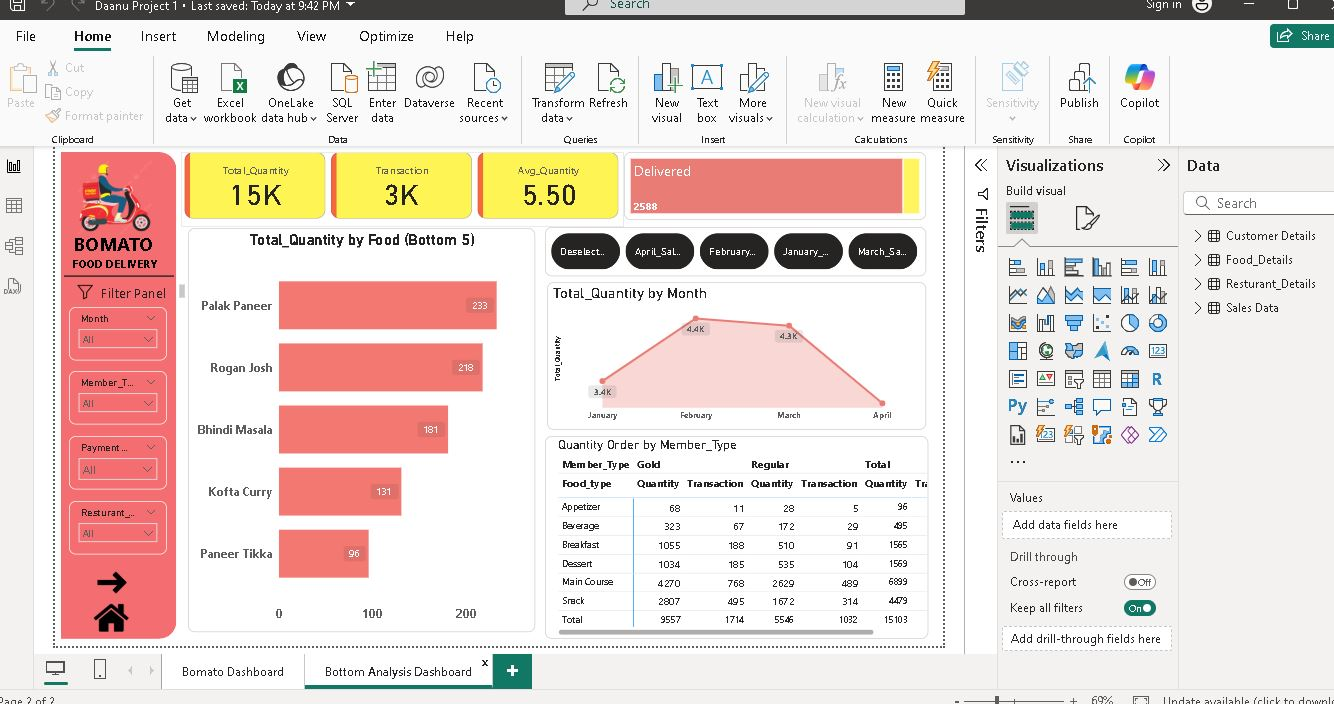

Layout of this report page (visuals, bound fields, positions):
{"tool":"powerbi","page":{"name":"Bottom Analysis Dashboard","canvas":[1280,720],"ordinal":1},"visuals":[{"type":"shape","box":[8.1,8.1,166.3,701.2],"z":0},{"type":"image","box":[7.9,9,158.3,132.3],"z":1000},{"type":"textbox","box":[13,116.6,148.3,70.6],"z":2000},{"type":"image","box":[24.7,194.9,37,31.6],"z":3000},{"type":"textbox","box":[61.9,194.4,129.6,31.7],"z":4000},{"type":"shape","box":[12.8,173.3,158.1,29.1],"z":5000},{"type":"slicer","fields":{"Values":["Sales Data.orderDate.Variation.Date Hierarchy.Month"]},"box":[20.6,231.9,141.3,76.8],"z":6000},{"type":"slicer","fields":{"Values":["Customer Details.member_Type"]},"box":[20.6,323.8,141.3,76.8],"z":7000},{"type":"slicer","fields":{"Values":["Sales Data.payment_method"]},"box":[20.6,417.2,141.3,76.8],"z":8000},{"type":"slicer","fields":{"Values":["Resturant_Details.Resturant_type"]},"box":[20.6,511.8,141.3,76.8],"z":9000},{"type":"image","box":[49,649.4,64.8,60.5],"z":11000},{"type":"cardVisual","fields":{"Data":["Sales Data.Total_Quantity","Sales Data.Transaction","Sales Data.Avg_Quantity"]},"box":[181.4,8.6,637.9,108],"z":12000},{"type":"clusteredBarChart","title":"Total_Quantity by Food (Bottom 5)","fields":{"Y":["Sales Data.Total_Quantity"],"Category":["Food_Details.Food"]},"box":[191.5,118.1,499.7,581.8],"z":13000},{"type":"pivotTable","title":"Quantity Order by Member_Type","fields":{"Columns":["Customer Details.member_Type"],"Rows":["Food_Details.Type"],"Values":["Sales Data.Total_Quantity","Sales Data.Transaction"]},"box":[705.6,417.6,551.5,292.3],"z":13002},{"type":"stackedAreaChart","fields":{"Category":["Sales Data.orderDate.Variation.Date Hierarchy.Month"],"Y":["Sales Data.Total_Quantity"]},"box":[708.5,195.8,545.8,213.1],"z":13003},{"type":"advancedSlicerVisual","fields":{"Values":["Sales Data.Month_Year"]},"box":[705.6,116.6,548.6,70.6],"z":13004},{"type":"treemap","fields":{"Group":["Sales Data.deliver_status"],"Values":["Sales Data.Transaction"]},"box":[819.4,8.6,434.9,97.9],"z":13006},{"type":"image","box":[56.2,597.6,51.8,61.9],"z":13007}]}

Visuals, with their boxes on the page's 1280x720 design canvas (x1, y1, x2, y2). These are canvas units, not pixel positions in the 1334x704 screenshot, which may show the page scaled, cropped or inside an application window:
shape: <box>8,8,174,709</box>
image: <box>8,9,166,141</box>
textbox: <box>13,117,161,187</box>
image: <box>25,195,62,226</box>
textbox: <box>62,194,192,226</box>
shape: <box>13,173,171,202</box>
slicer - Sales Data.orderDate.Variation.Date Hierarchy.Month: <box>21,232,162,309</box>
slicer - Customer Details.member_Type: <box>21,324,162,401</box>
slicer - Sales Data.payment_method: <box>21,417,162,494</box>
slicer - Resturant_Details.Resturant_type: <box>21,512,162,589</box>
image: <box>49,649,114,710</box>
cardVisual - Sales Data.Total_Quantity x Sales Data.Transaction: <box>181,9,819,117</box>
"Total_Quantity by Food (Bottom 5)" clusteredBarChart: <box>192,118,691,700</box>
"Quantity Order by Member_Type" pivotTable: <box>706,418,1257,710</box>
stackedAreaChart - Sales Data.orderDate.Variation.Date Hierarchy.Month x Sales Data.Total_Quantity: <box>708,196,1254,409</box>
advancedSlicerVisual - Sales Data.Month_Year: <box>706,117,1254,187</box>
treemap - Sales Data.deliver_status x Sales Data.Transaction: <box>819,9,1254,106</box>
image: <box>56,598,108,660</box>
